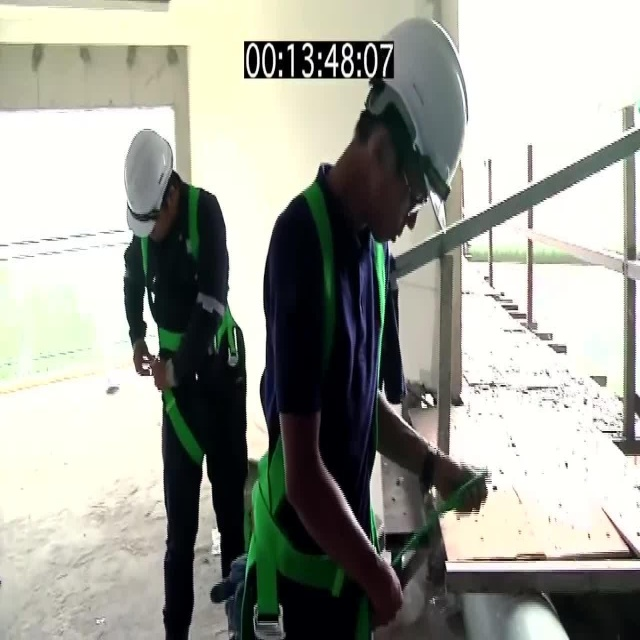Arnes_seguridad: (247, 169, 387, 624), (140, 191, 237, 463)
